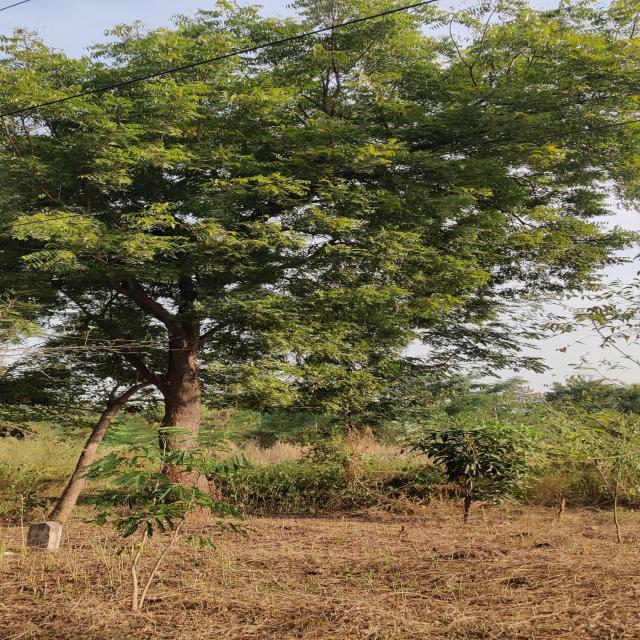Neem Tree: (21, 1, 640, 399)
